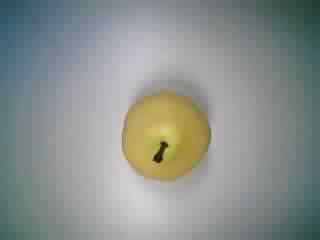pear: (107, 78, 217, 196)
